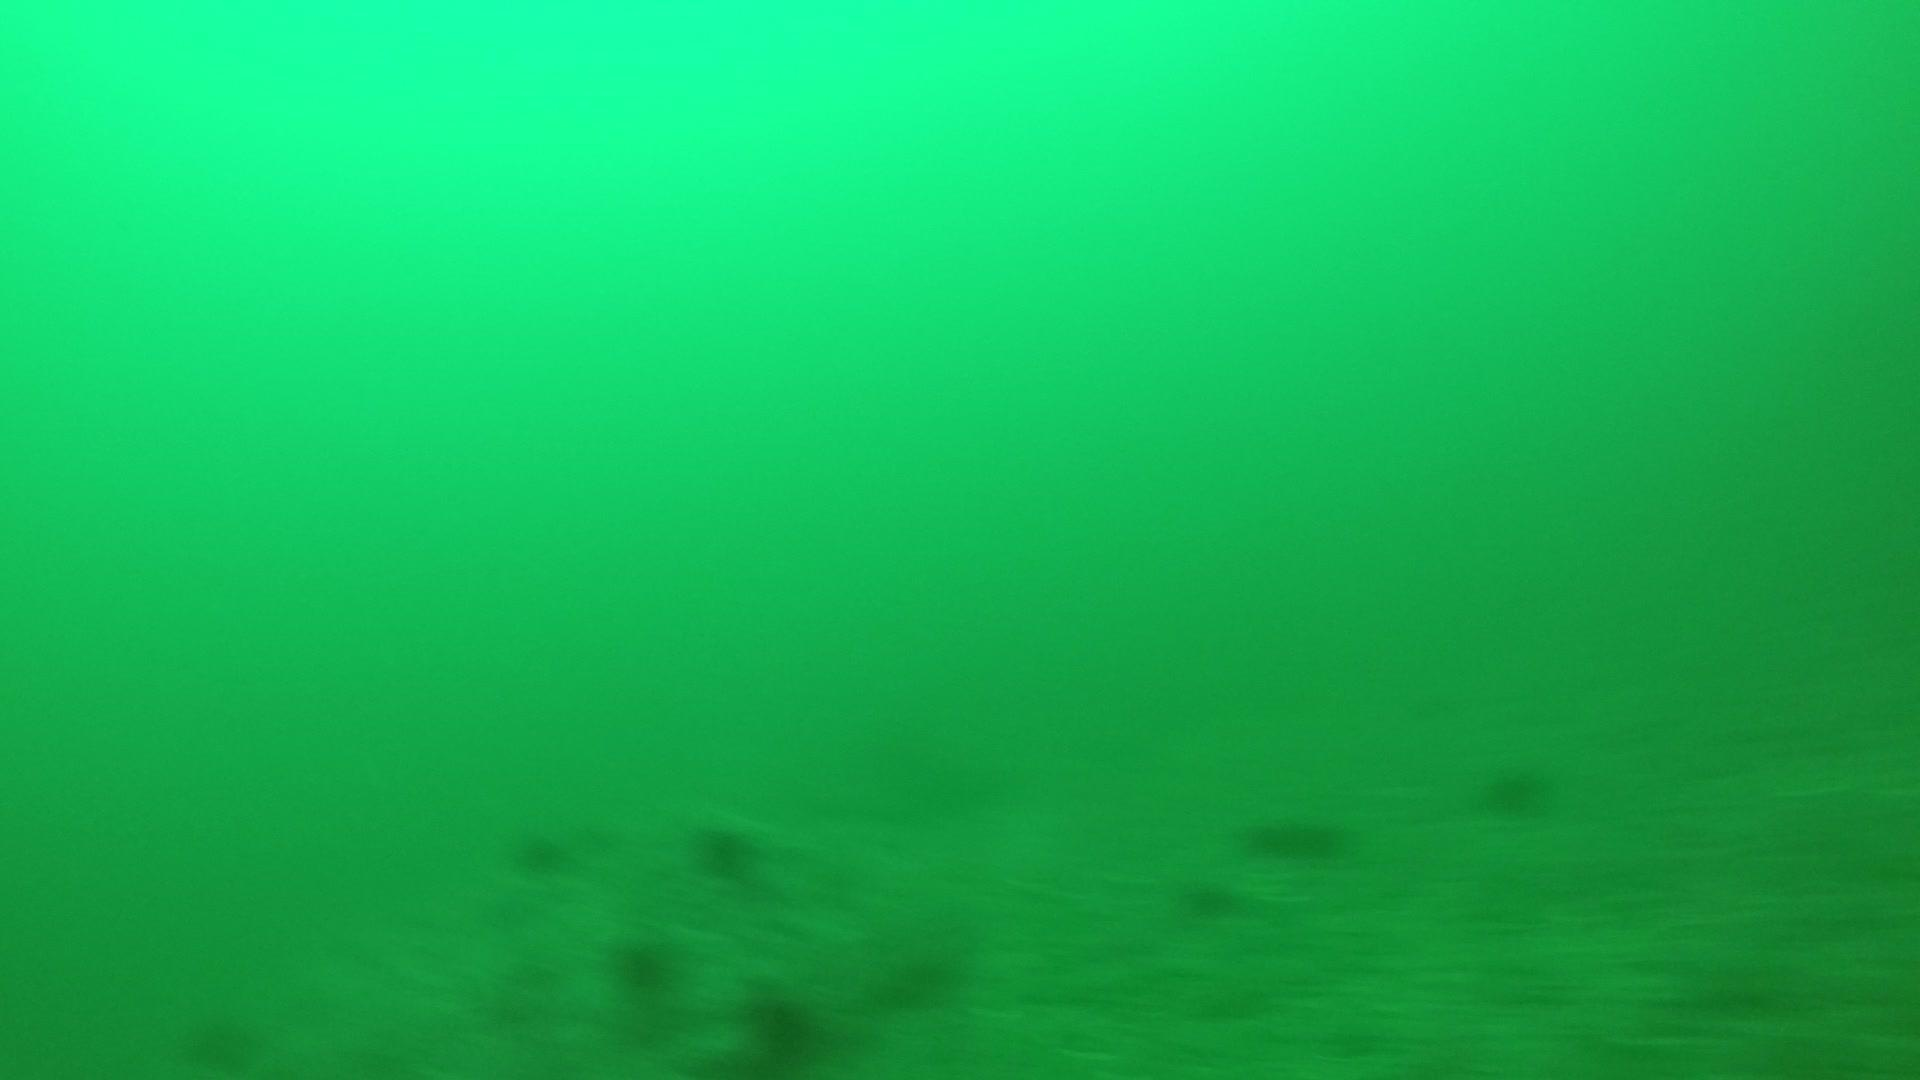echinus: (736, 982, 829, 1067), (1240, 802, 1352, 866), (880, 942, 967, 1011), (177, 1006, 264, 1072), (1476, 756, 1557, 822), (686, 814, 764, 880), (607, 932, 680, 998), (504, 820, 575, 878), (1176, 872, 1241, 923)
